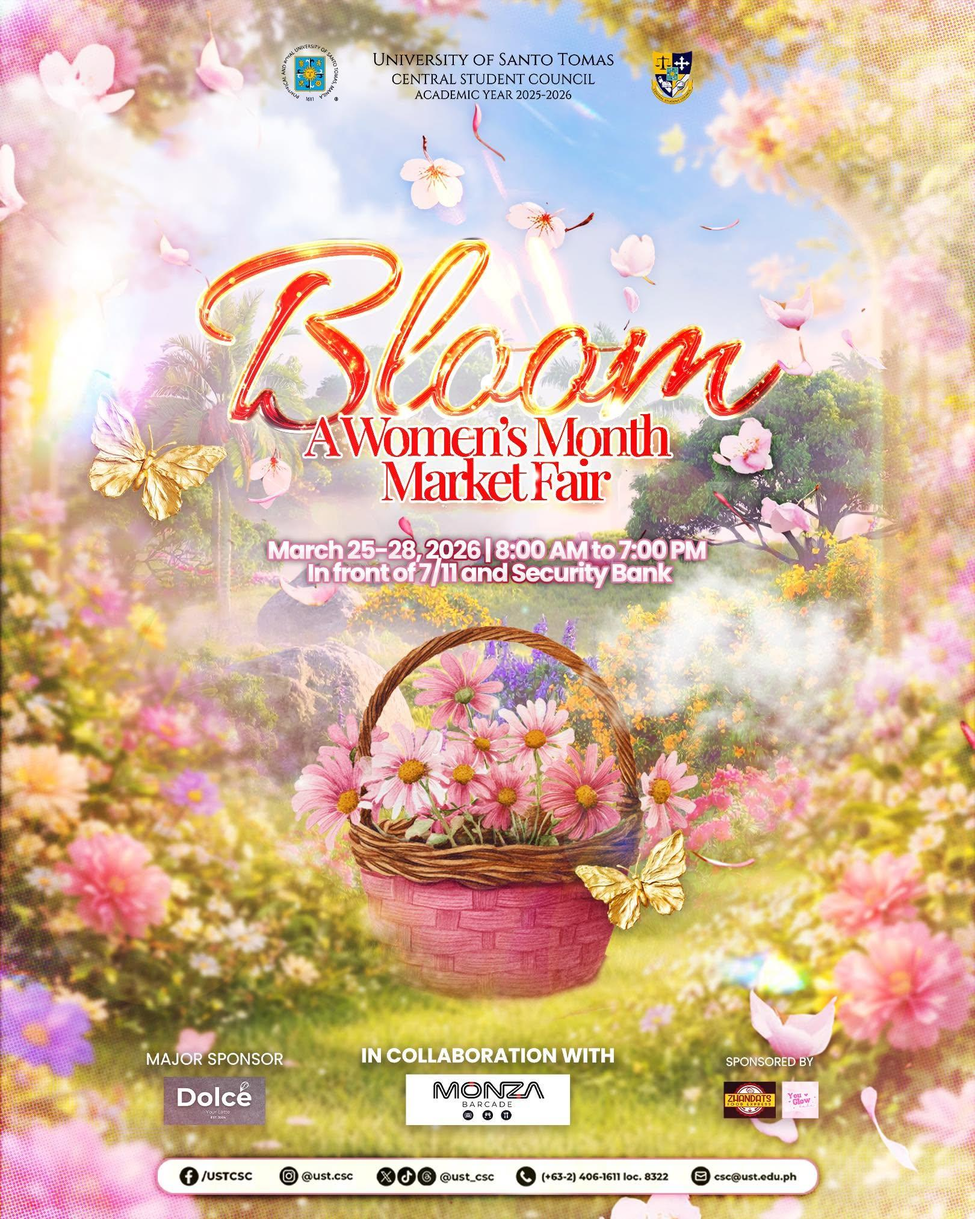embellishment: (275, 623, 710, 1007), (81, 382, 241, 531), (394, 1072, 588, 1133), (388, 137, 481, 217), (158, 1079, 280, 1138), (495, 199, 602, 260), (593, 224, 673, 292), (706, 414, 784, 480), (719, 1081, 825, 1121), (373, 1163, 438, 1190), (512, 1168, 540, 1190), (274, 1165, 299, 1189), (178, 1165, 200, 1187), (689, 1165, 710, 1187)
logo: (277, 45, 349, 101), (641, 47, 703, 105)
text: (197, 229, 799, 509), (266, 533, 722, 587), (366, 42, 621, 110), (351, 1038, 626, 1070), (128, 1047, 296, 1079), (715, 1049, 823, 1076), (536, 1168, 673, 1189), (716, 1166, 803, 1190), (199, 1165, 260, 1190), (438, 1166, 504, 1189), (298, 1165, 361, 1186)
underlay: (156, 1156, 817, 1195)
